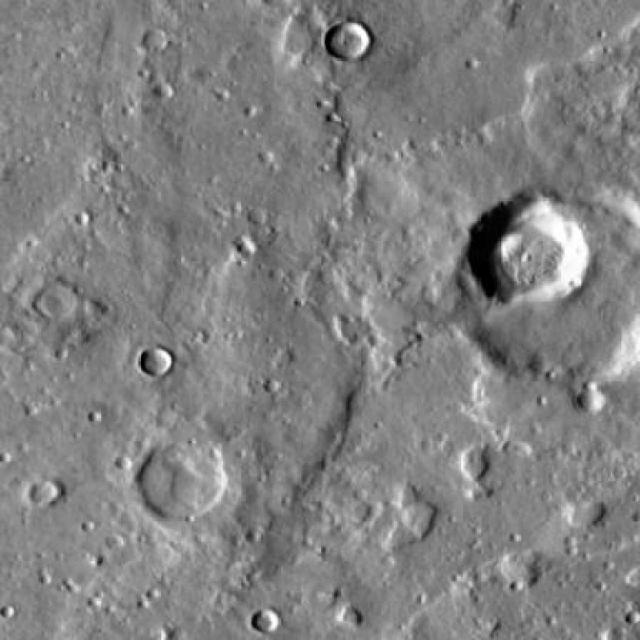crater: (455, 172, 640, 376), (465, 189, 592, 300), (137, 432, 228, 511), (325, 19, 372, 61), (38, 276, 80, 313), (26, 476, 56, 504), (142, 350, 172, 376), (145, 26, 169, 48), (255, 609, 278, 629), (154, 74, 175, 92)
